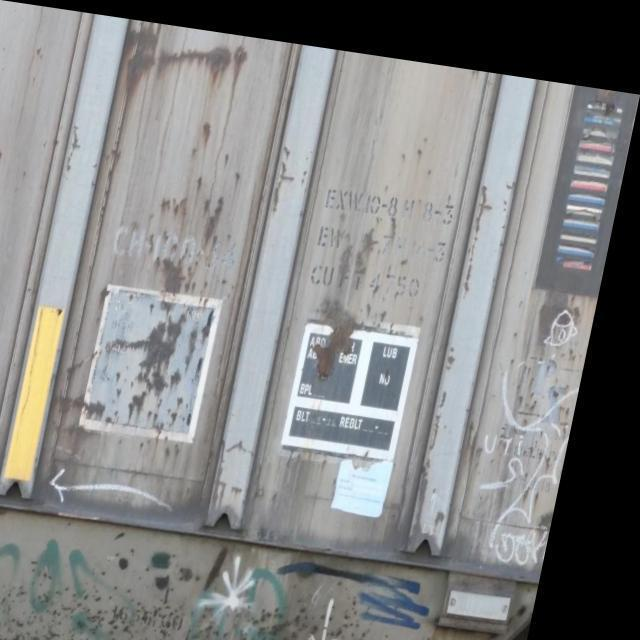-: (472, 268, 606, 556), (0, 412, 18, 506)
